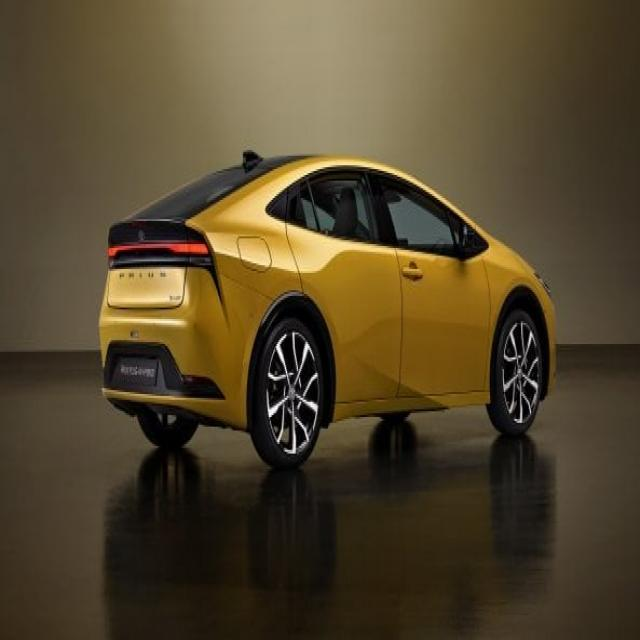yolov7-seg-car: (98, 148, 556, 468)
